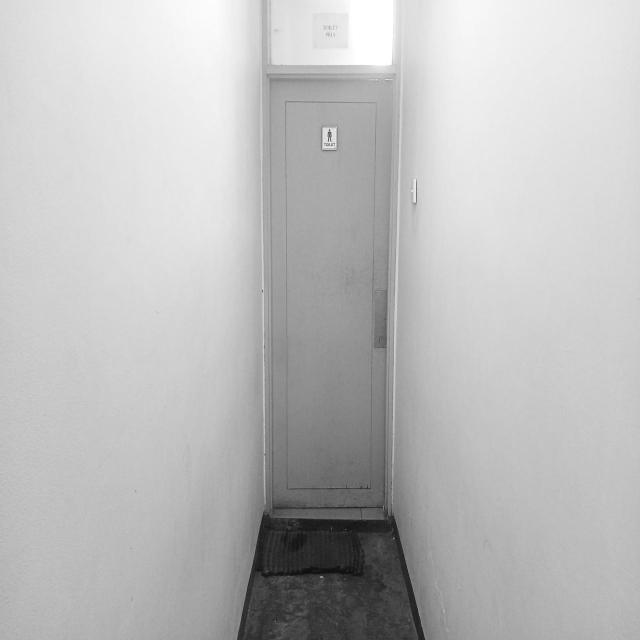door: (262, 62, 399, 516)
